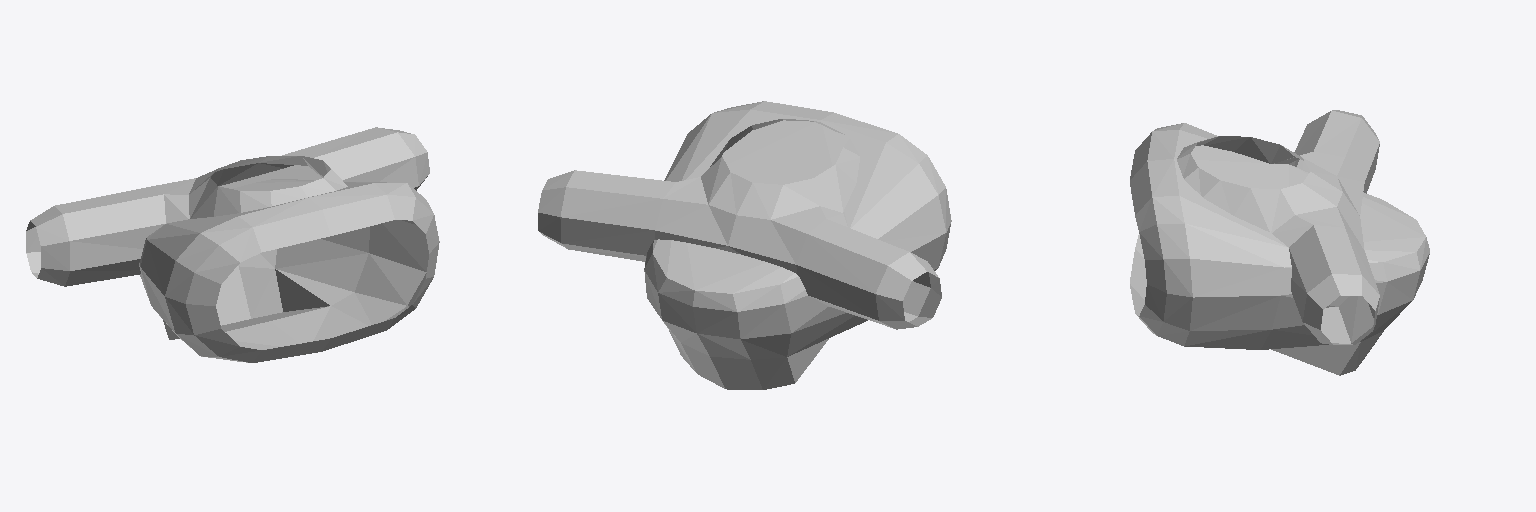
Rendered from SteeringDoohickey.obj.
The picture shows the model from 3 angles: view 1: azimuth 30°, elevation 25°; view 2: azimuth 150°, elevation 25°; view 3: azimuth 270°, elevation 25°; orthographic projection.
Visible parts, largest first — view 1: Bikesteer; view 2: Bikesteer; view 3: Bikesteer.
Part boxes in pixels (x1,y1,x2,y2): Bikesteer: (26, 127, 439, 362); Bikesteer: (538, 101, 951, 389); Bikesteer: (1130, 110, 1429, 375).
Bounding box in the file's own units: 0.1024 × 0.0516 × 0.0686.